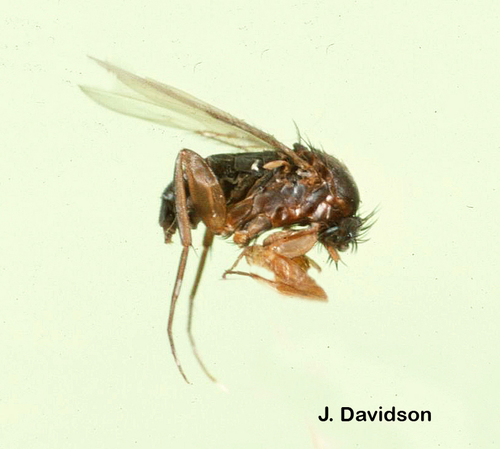phorid fly: (60, 46, 386, 397)
